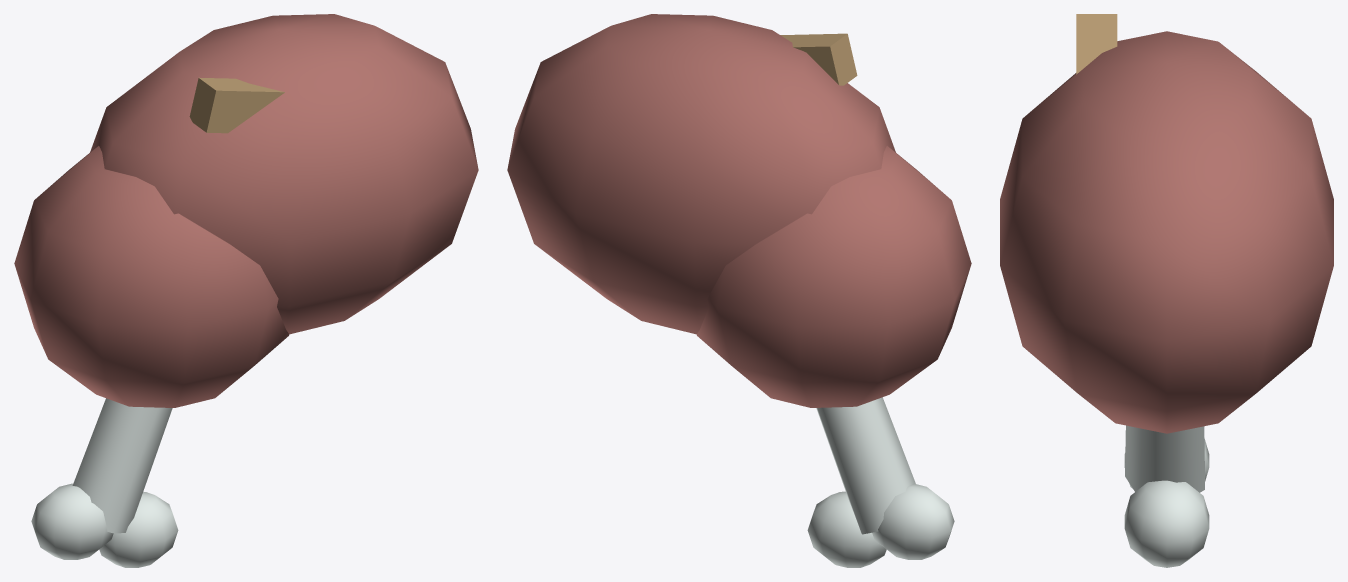
File: fixed-meat.glb
3 views of the same model, side by side, from view 1: azimuth 30°, elevation 25°; view 2: azimuth 150°, elevation 25°; view 3: azimuth 270°, elevation 25° (orthographic). The views are drawn at different scales.
Visible parts, largest first — view 1: piece_whole; view 2: piece_whole; view 3: piece_whole.
Boxes of the visible parts, <box> form: piece_whole: <box>14,14,478,567</box>; piece_whole: <box>507,14,971,567</box>; piece_whole: <box>1000,14,1333,567</box>.
Size of what is drawn, in the model's own units: 0.505 by 0.548 by 0.2853.
